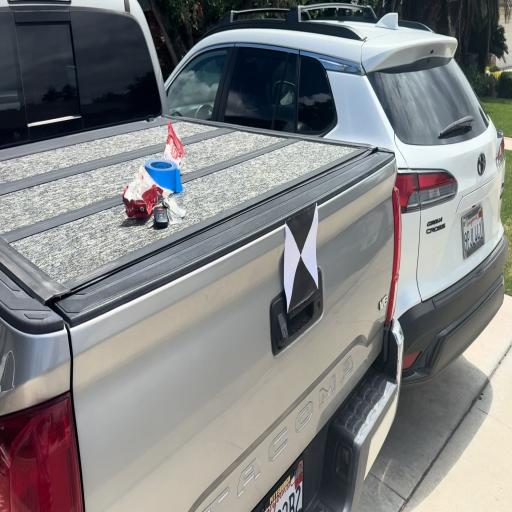target: (286, 204, 318, 312)
